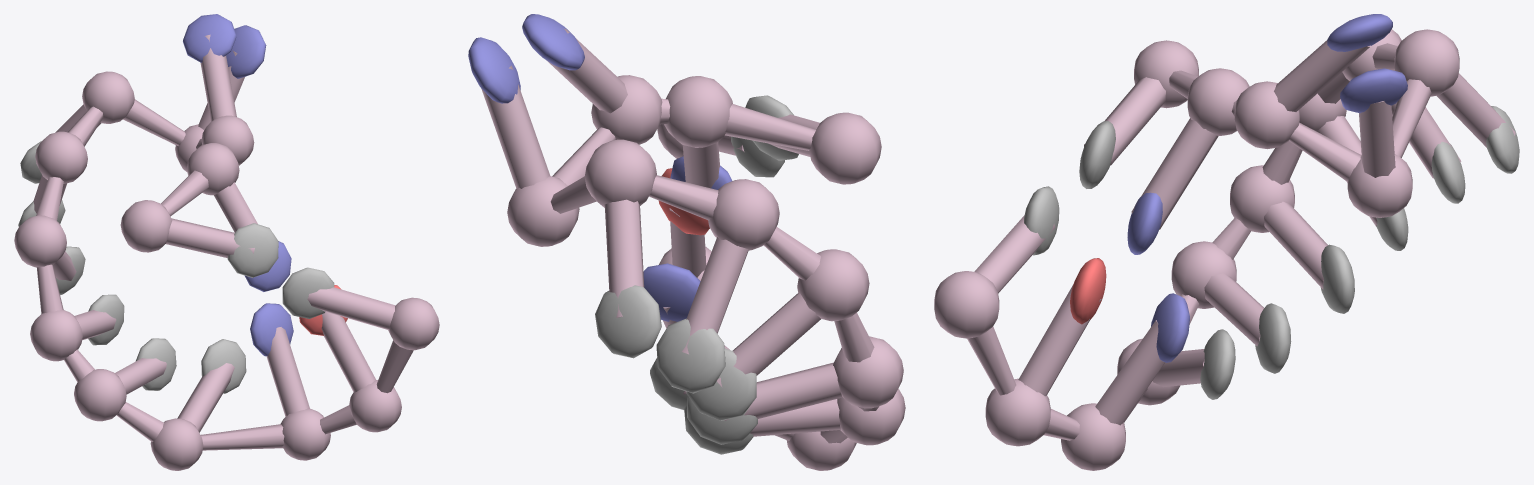
File: single_kl180.gltf
3 renders of one model, left to right at view 1: azimuth 30°, elevation 25°; view 2: azimuth 150°, elevation 25°; view 3: azimuth 270°, elevation 25°, orthographic. The views are drawn at different scales.
Parts seen in each view (by area): view 1: backbone_258, backbone_256, connector_252, backbone_264, backbone_257, backbone_259, backbone_252, backbone_255, connector_253, nucleoside_264, connector_254, backbone_260 (+33 smaller); view 2: backbone_264, backbone_263, nucleoside_259, backbone_259, backbone_260, nucleoside_260, backbone_258, connector_261, backbone_257, backbone_261, connector_258, connector_259 (+28 smaller); view 3: backbone_252, backbone_253, backbone_260, backbone_262, connector_263, connector_254, backbone_254, backbone_263, connector_253, connector_262, backbone_261, backbone_257 (+33 smaller).
Part boxes in pixels (x1,y1,x2,y2): backbone_258: (14,215,66,267); backbone_256: (74,369,126,421); connector_252: (307,287,395,329); backbone_264: (120,200,172,252); backbone_257: (30,310,82,361); backbone_259: (35,131,87,183); backbone_252: (388,297,439,350); backbone_255: (150,418,203,470); connector_253: (321,312,375,392); nucleoside_264: (227,223,278,277); connector_254: (266,327,309,416); backbone_260: (82,71,134,123); backbone_264: (809,112,881,184); backbone_263: (664,76,732,147); nucleoside_259: (656,318,725,393); backbone_259: (708,179,779,250); backbone_260: (584,139,656,207); nucleoside_260: (595,285,661,358); backbone_258: (797,249,869,321); connector_261: (481,65,550,188); backbone_257: (833,336,903,408); backbone_261: (507,176,579,246); connector_258: (717,293,820,387); connector_259: (682,237,748,354); backbone_252: (934,271,999,338); backbone_253: (985,378,1050,446); backbone_260: (1394,29,1459,96); backbone_262: (1234,81,1299,149); connector_263: (1131,118,1218,229); connector_254: (1095,320,1165,425); backbone_254: (1061,403,1125,470); backbone_263: (1187,68,1249,135); connector_253: (1018,284,1101,396); connector_262: (1274,20,1370,111); backbone_261: (1347,154,1412,217); backbone_257: (1230,165,1294,232).
Size of what is drawn, in the model's own units: 2.51 by 2.99 by 3.43.
